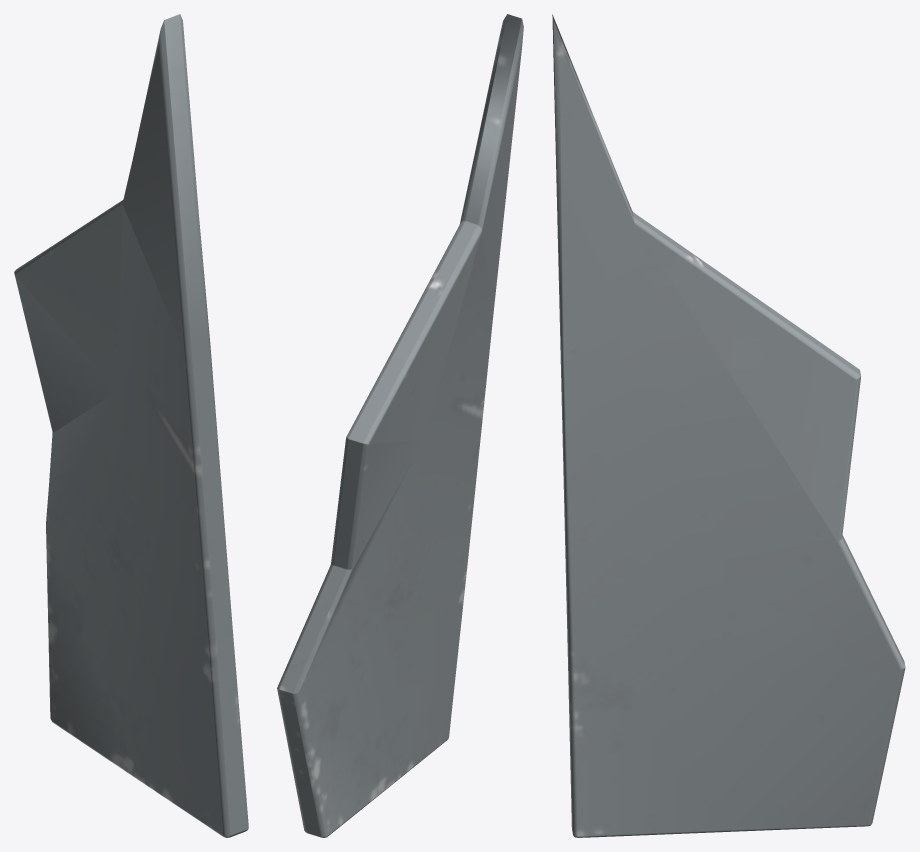
The model's file is verre_brisee_morceau_1.fbx.
3 renders of one model, left to right at view 1: azimuth 30°, elevation 25°; view 2: azimuth 150°, elevation 25°; view 3: azimuth 270°, elevation 25°, orthographic. The views are drawn at different scales.
Parts seen in each view (by area): view 1: polySurface53; view 2: polySurface53; view 3: polySurface53.
Part boxes in pixels (box(x1,y1,x2,y2)): polySurface53: box(14, 14, 248, 837); polySurface53: box(277, 14, 523, 837); polySurface53: box(552, 14, 905, 837).
Bounding box in the file's own units: 0.00591 × 0.0475 × 0.0194.
